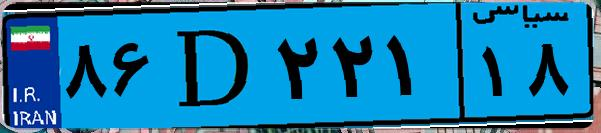1: (385, 28, 445, 110), (475, 38, 525, 113)
2: (270, 28, 330, 110), (330, 28, 385, 110)
6: (110, 28, 158, 98)
8: (57, 26, 110, 100), (525, 38, 570, 115)
D: (158, 12, 270, 120)
